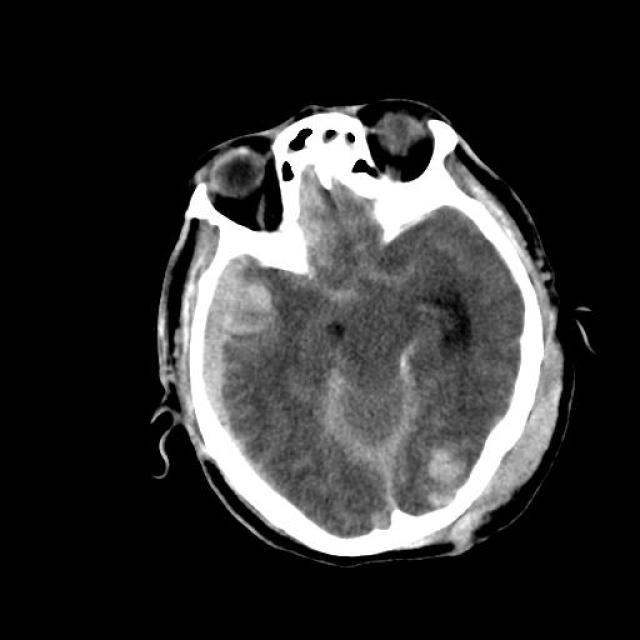Intraparenchymal: (417, 432, 498, 518)
Subarachnoid: (320, 338, 426, 532), (292, 214, 418, 305)
Subdural: (154, 238, 306, 488), (318, 328, 422, 548)
